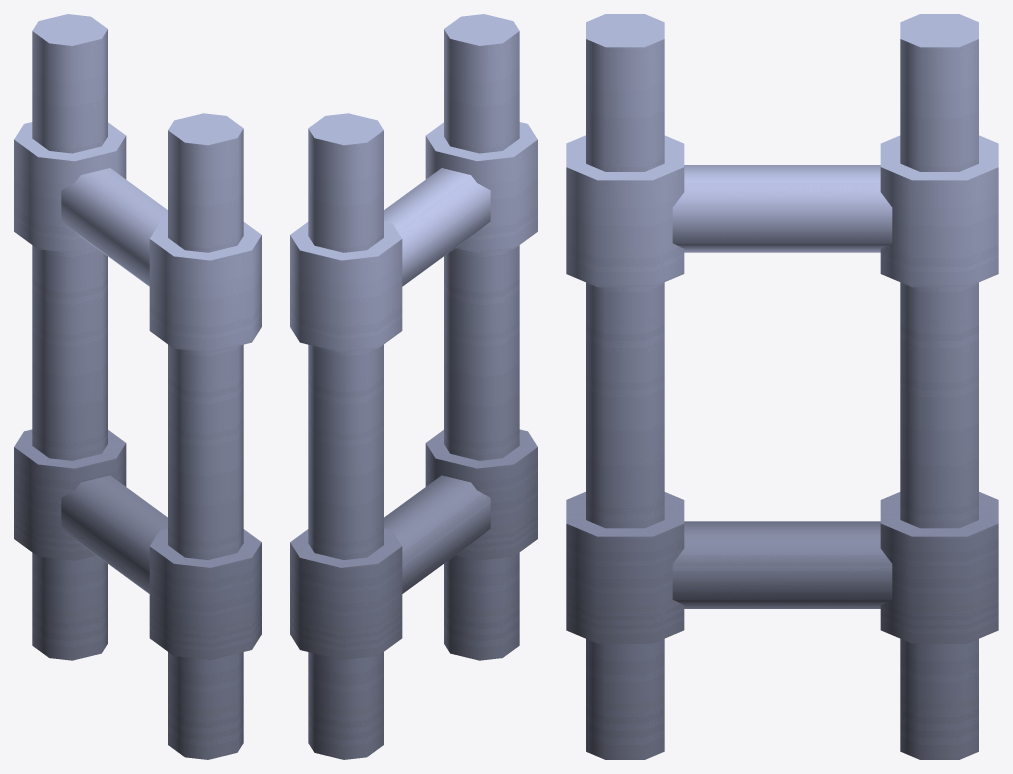
The model's file is ladder.glb.
3 renders of one model, left to right at view 1: azimuth 30°, elevation 25°; view 2: azimuth 150°, elevation 25°; view 3: azimuth 270°, elevation 25°, orthographic. The views are drawn at different scales.
Visible parts, largest first — view 1: ladder-col; view 2: ladder-col; view 3: ladder-col.
Part boxes in pixels (<box>): ladder-col: <box>14,14,261,759</box>; ladder-col: <box>290,14,537,759</box>; ladder-col: <box>566,14,998,759</box>.
Bounding box in the file's own units: 0.15 × 1 × 0.55.
Materials: 1 (1 with a texture image).
